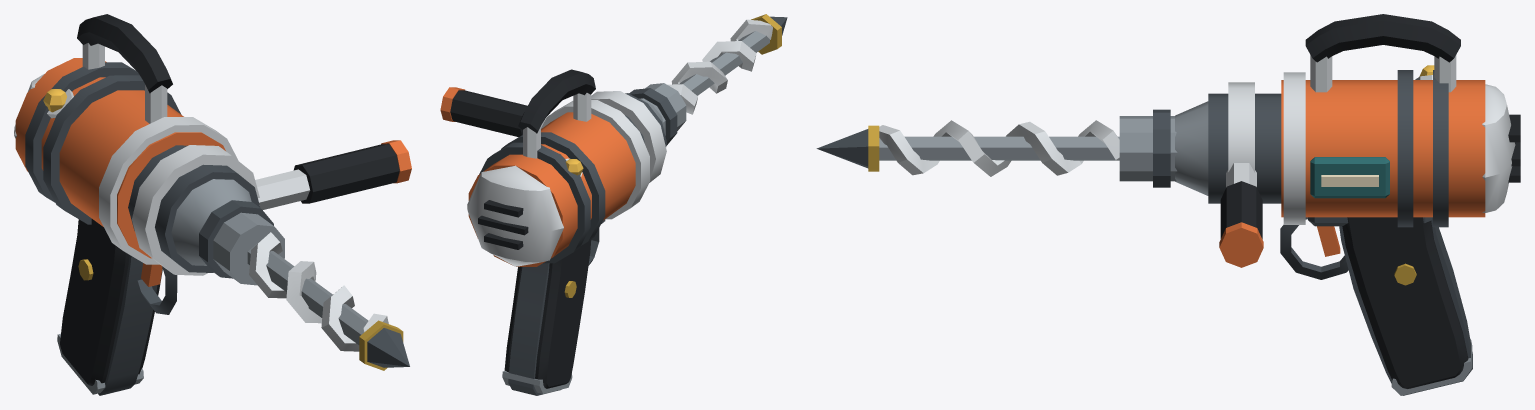
The model's file is Tool_Drill.fbx.
3 renders of one model, left to right at view 1: azimuth 30°, elevation 25°; view 2: azimuth 150°, elevation 25°; view 3: azimuth 270°, elevation 25°, orthographic. The views are drawn at different scales.
Visible parts, largest first — view 1: Motor, PilotLamp; view 2: Motor; view 3: Motor.
Boxes of the visible parts, x1=… form: Motor: x1=14, y1=14, x2=411, y2=395; PilotLamp: x1=43, y1=89, x2=66, y2=112; Motor: x1=440, y1=14, x2=787, y2=395; Motor: x1=816, y1=14, x2=1520, y2=395.
Bounding box in the file's own units: 1.41 × 1.85 × 3.18.
